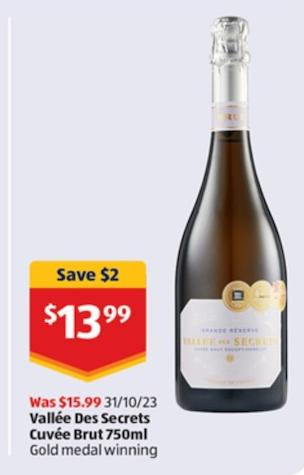description_block: (18, 412, 177, 470)
price_main: (20, 285, 152, 378)
product_image_block: (142, 15, 304, 428)
promo_text_block: (22, 255, 149, 288)
